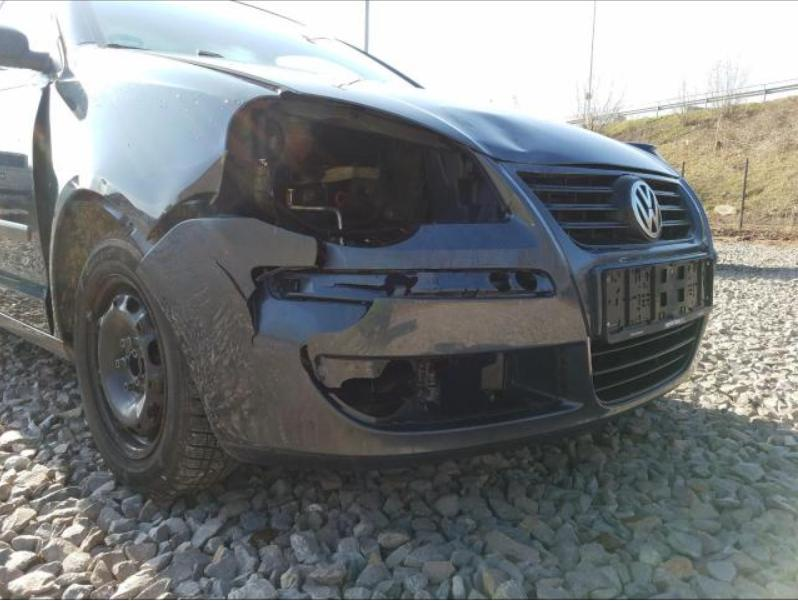Fender: (49, 46, 276, 339)
Front-bumper: (136, 138, 714, 469)
Front-door: (0, 51, 64, 334)
Front-wheel: (75, 240, 234, 499)
Front-window: (0, 0, 57, 54)
Grille: (517, 172, 699, 250)
Hood: (121, 48, 681, 176)
License-plate: (599, 259, 713, 341)
Mirror: (0, 28, 54, 77)
Rocker-panel: (0, 316, 63, 357)
Windshield: (56, 0, 421, 91)
